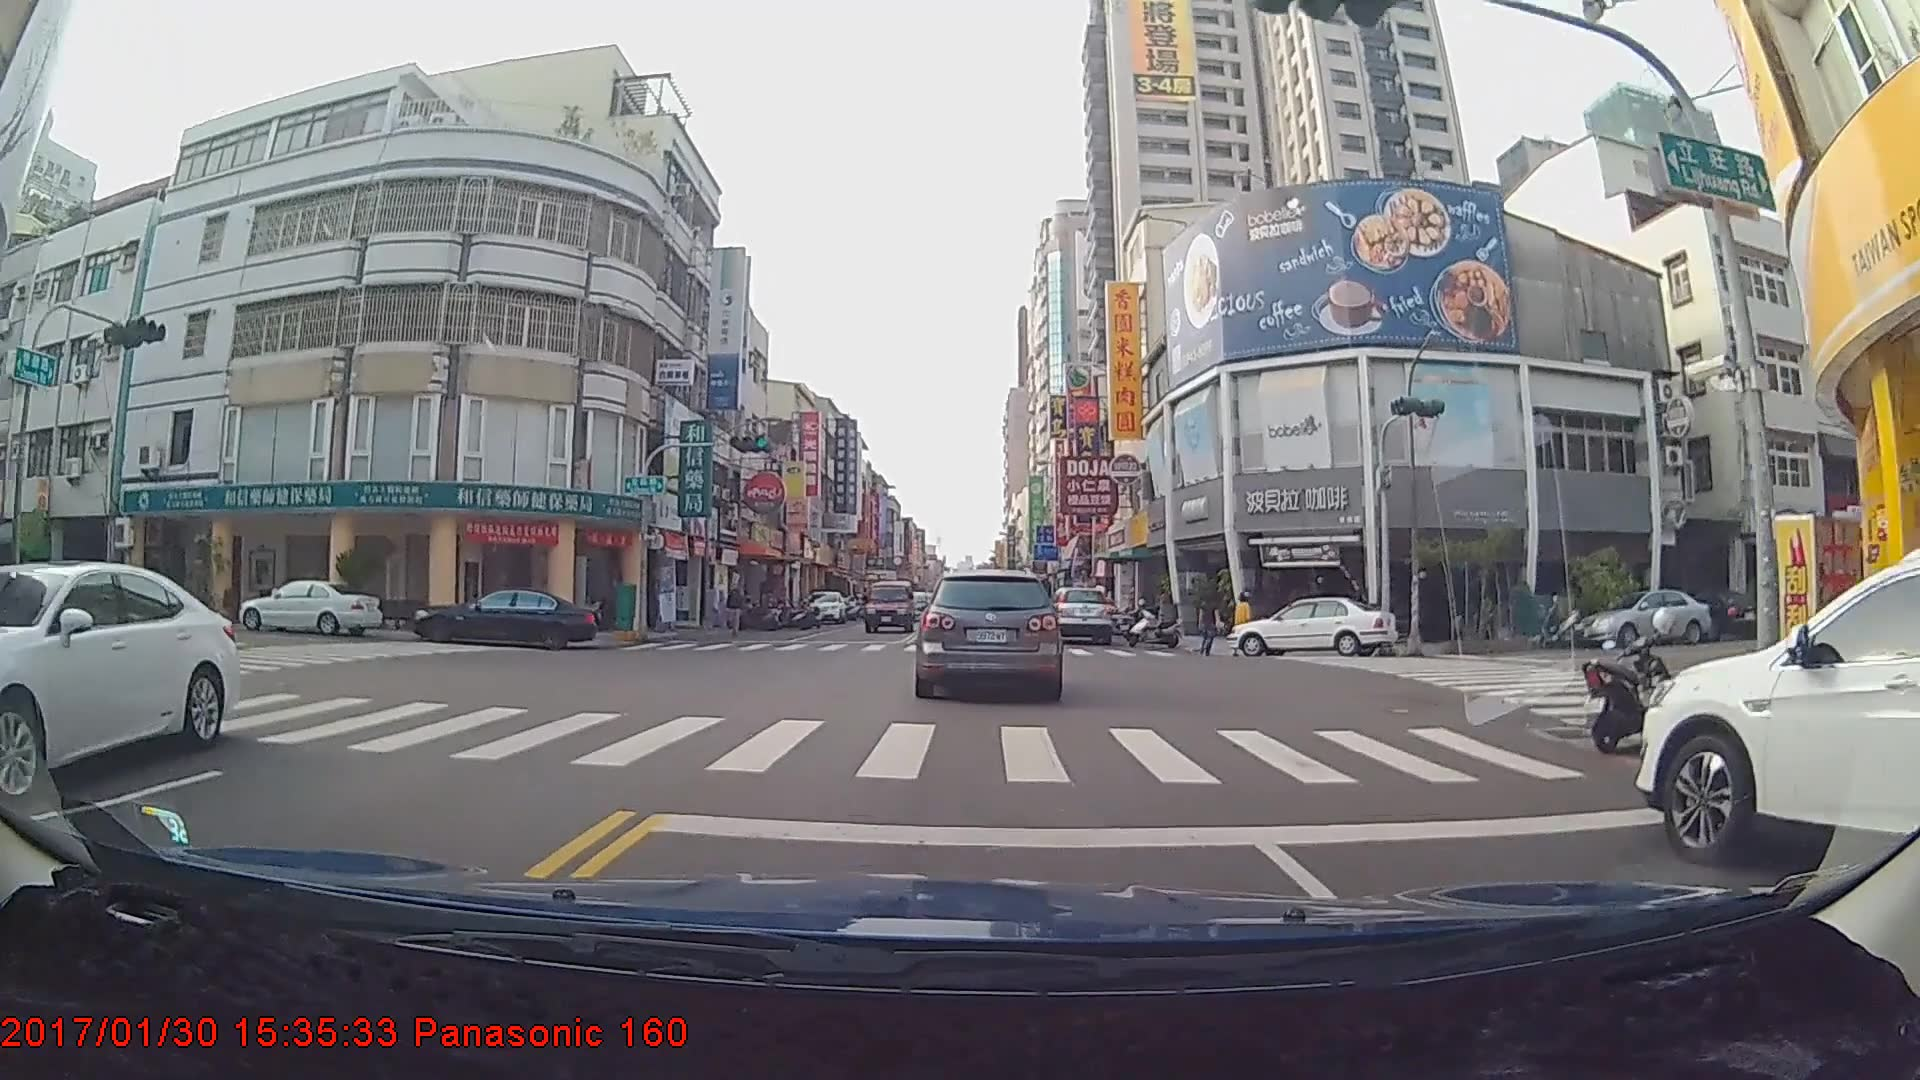pedestrian: (1196, 592, 1224, 655), (1233, 591, 1253, 652), (725, 583, 745, 640)
vehicle: (1636, 542, 1919, 936), (0, 555, 235, 808), (918, 567, 1061, 698), (407, 577, 596, 640), (1227, 593, 1396, 657), (1575, 586, 1710, 648), (237, 578, 383, 636), (1040, 582, 1112, 645), (861, 576, 913, 630), (798, 587, 844, 622)
